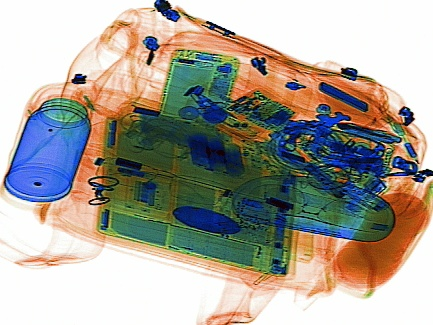powerbank: (181, 127, 249, 180)
